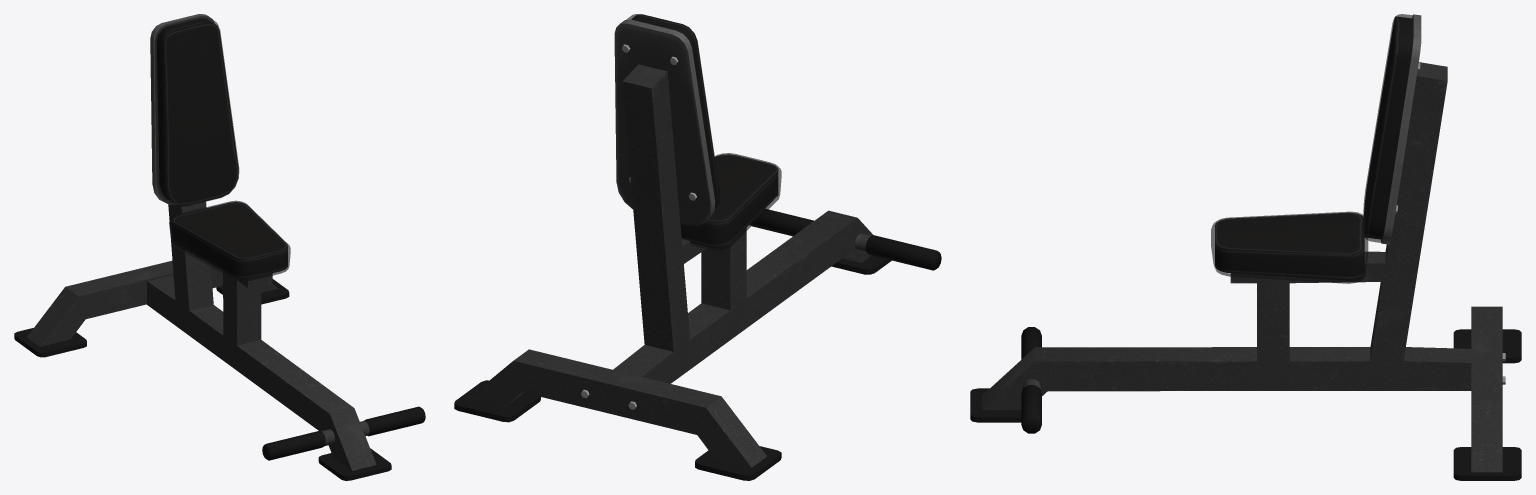
The model's file is gym_bench_01.glb.
The picture shows the model from 3 angles, left to right: view 1: azimuth 30°, elevation 25°; view 2: azimuth 150°, elevation 25°; view 3: azimuth 270°, elevation 25°; orthographic projection. The views are drawn at different scales.
Visible parts, largest first — view 1: bench chair, bench chair_cover; view 2: bench chair, bench chair_cover; view 3: bench chair, bench chair_cover.
Part boxes in pixels (box(x1,y1,x2,y2)): bench chair: box(14, 14, 425, 480); bench chair_cover: box(154, 16, 290, 281); bench chair: box(454, 14, 941, 480); bench chair_cover: box(626, 14, 781, 250); bench chair: box(970, 14, 1521, 480); bench chair_cover: box(1211, 14, 1412, 283).
Bounding box in the file's own units: 0.8196 × 0.9987 × 1.3.
2 materials, 1 textured.
